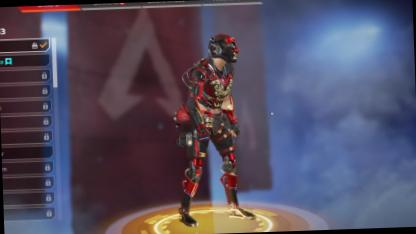Target: (172, 31, 245, 185)
